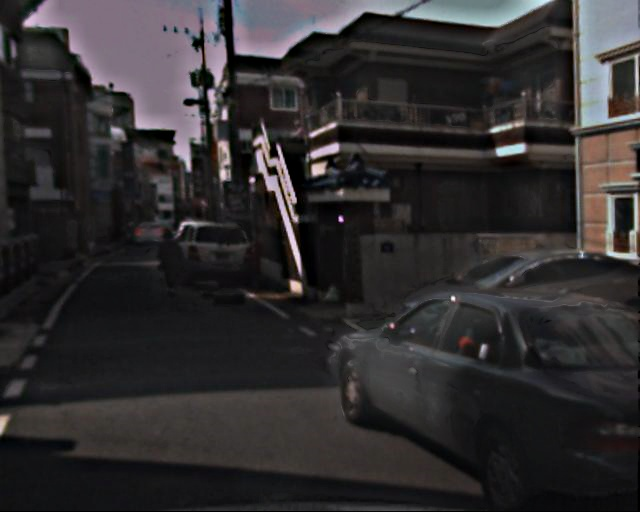person: (155, 228, 182, 295)
